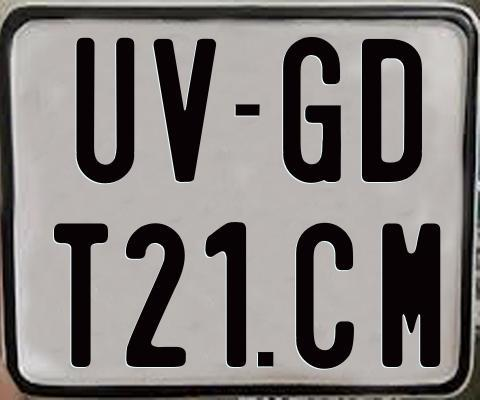1: (203, 221, 248, 367)
2: (126, 222, 188, 366)
C: (296, 223, 356, 370)
D: (359, 36, 425, 184)
G: (283, 36, 347, 184)
M: (382, 223, 442, 372)
T: (51, 221, 107, 365)
U: (73, 35, 133, 184)
V: (153, 37, 216, 180)
